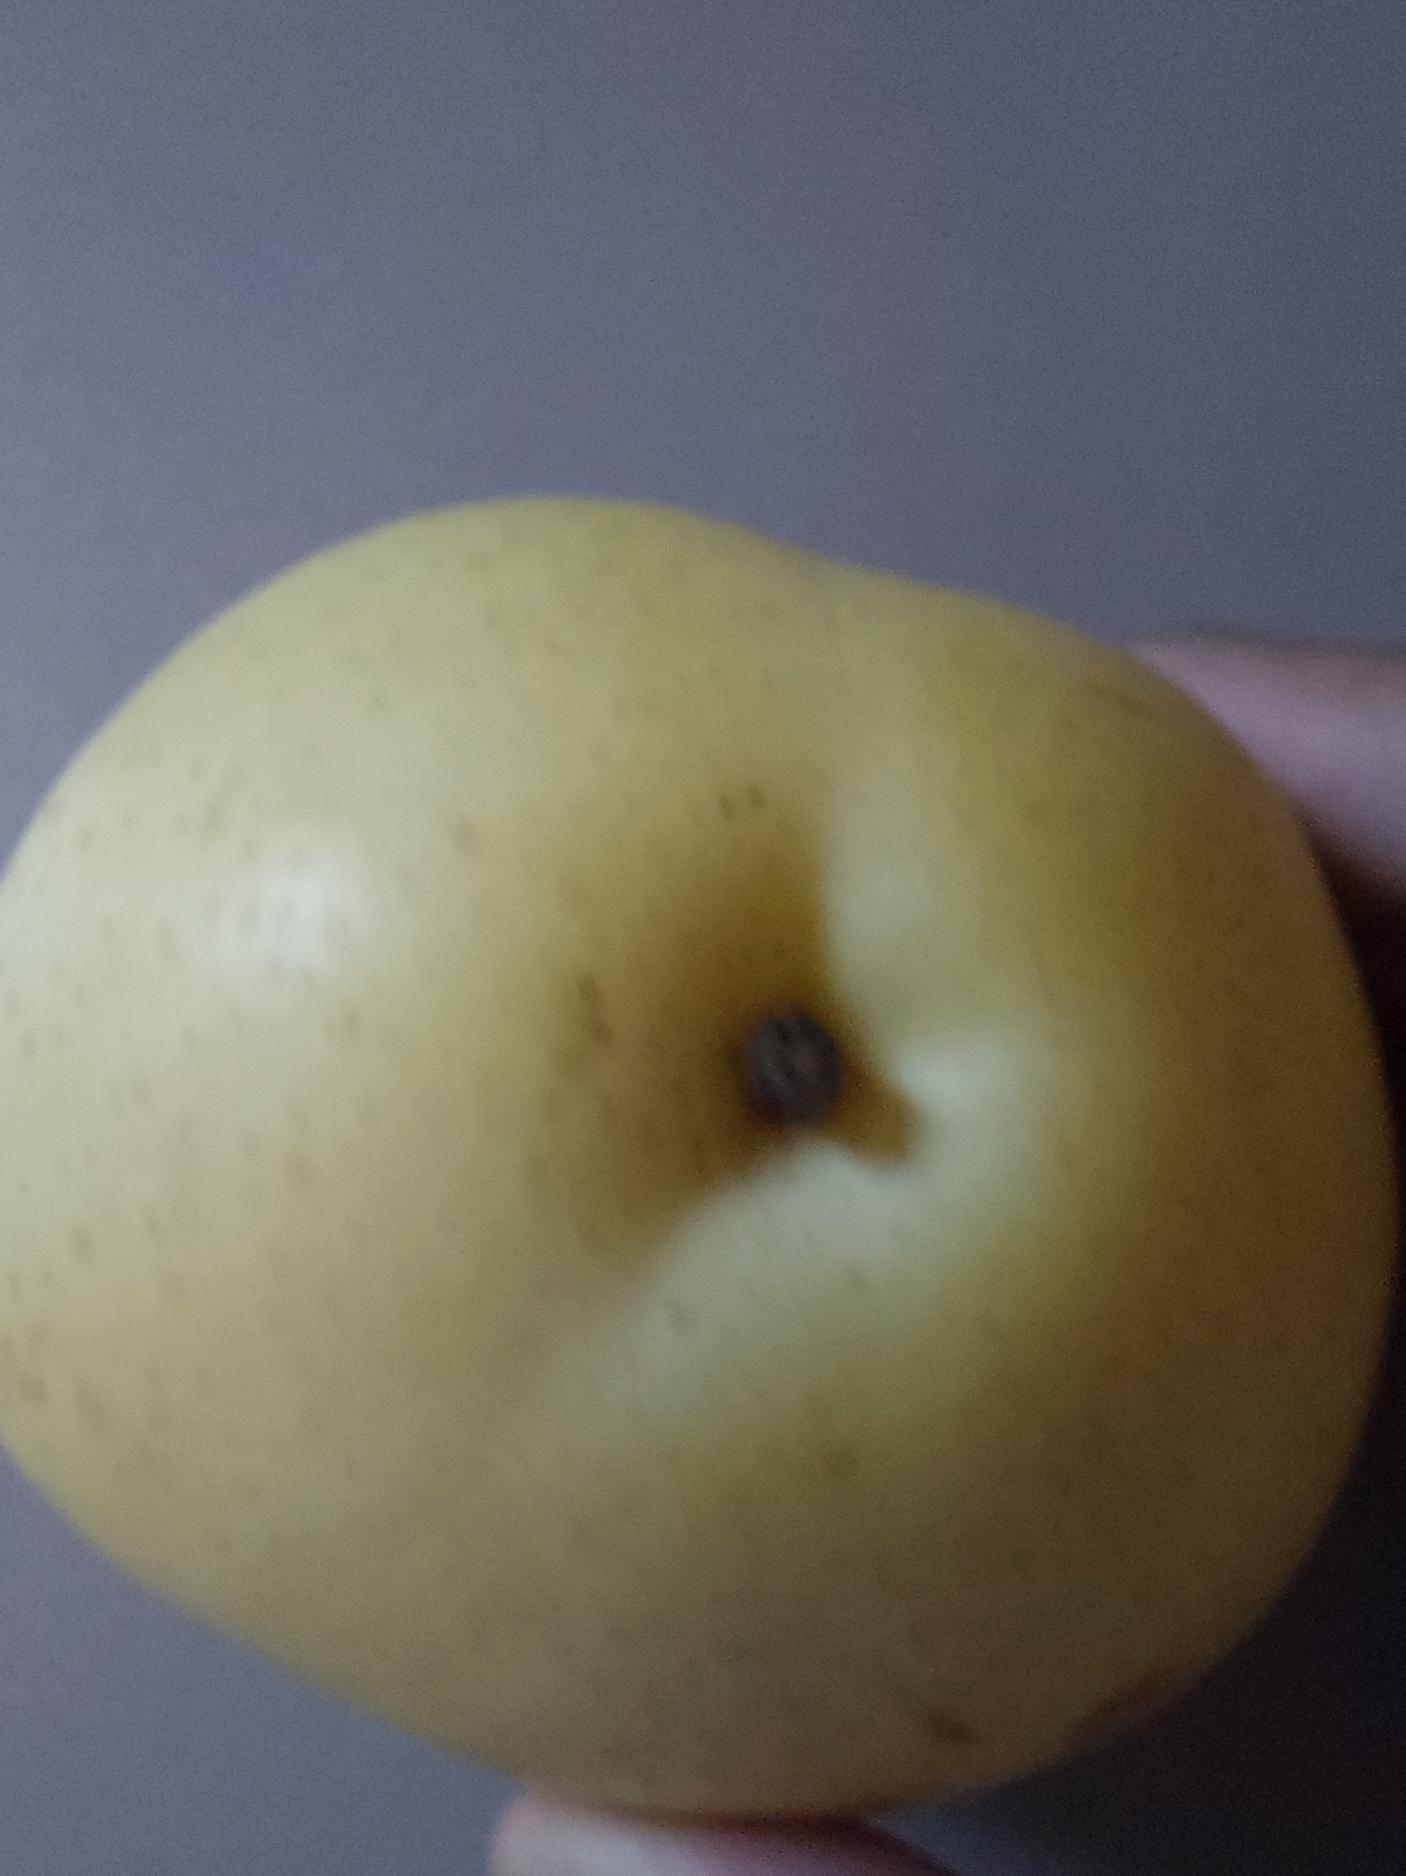Good Pear: (0, 477, 1406, 1835)
